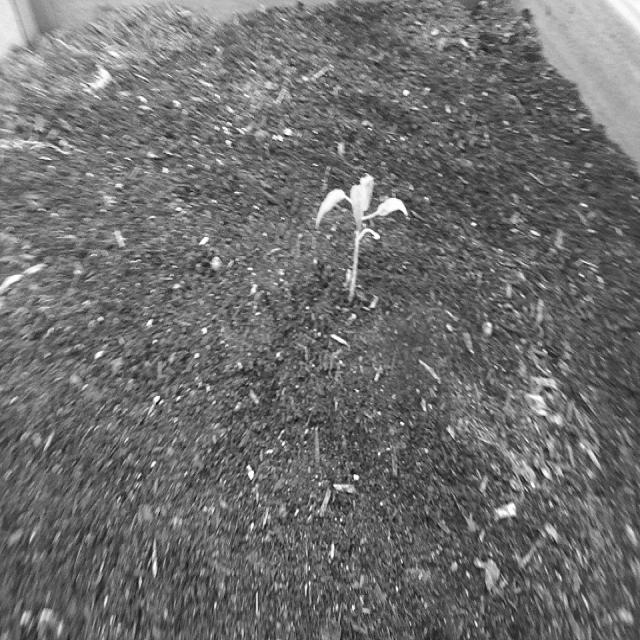Healthy: (312, 165, 412, 315)
